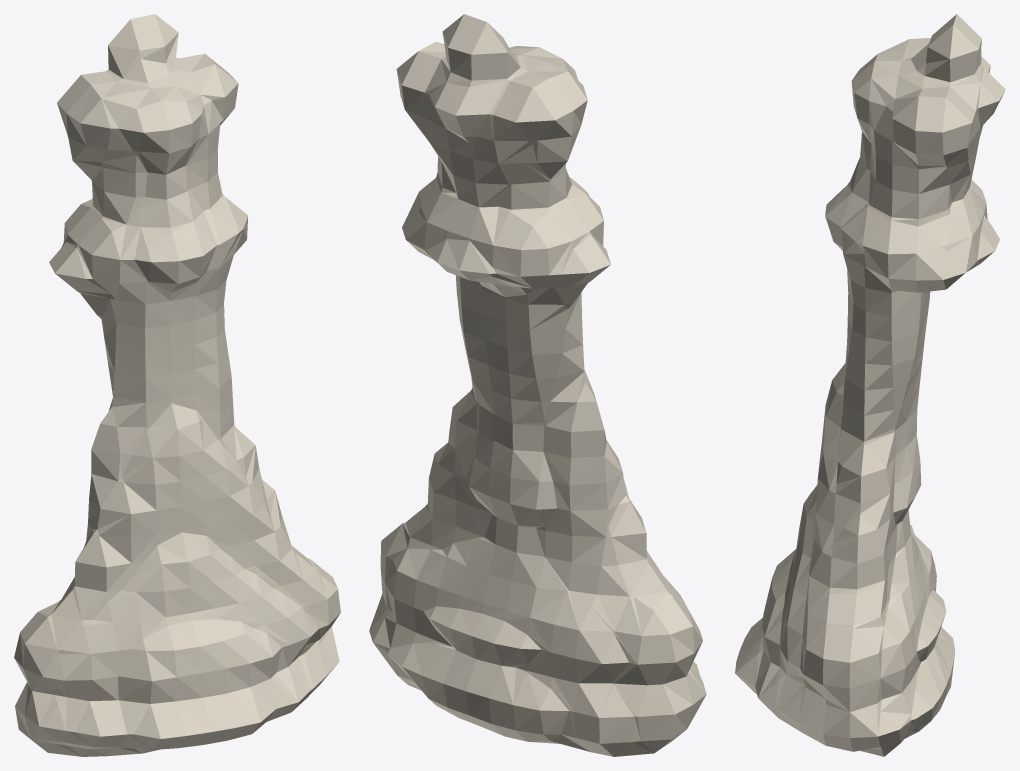
The model's file is queen.glb.
The picture shows the model from 3 angles, left to right: view 1: azimuth 30°, elevation 25°; view 2: azimuth 150°, elevation 25°; view 3: azimuth 270°, elevation 25°; orthographic projection. The views are drawn at different scales.
Parts seen in each view (by area): view 1: queen; view 2: queen; view 3: queen.
Boxes of the visible parts, x1,y1,x2,y2 form: queen: (14, 14, 340, 756); queen: (369, 14, 706, 756); queen: (735, 14, 1005, 756).
Bounding box in the file's own units: 0.4801 × 1.03 × 0.3633.
